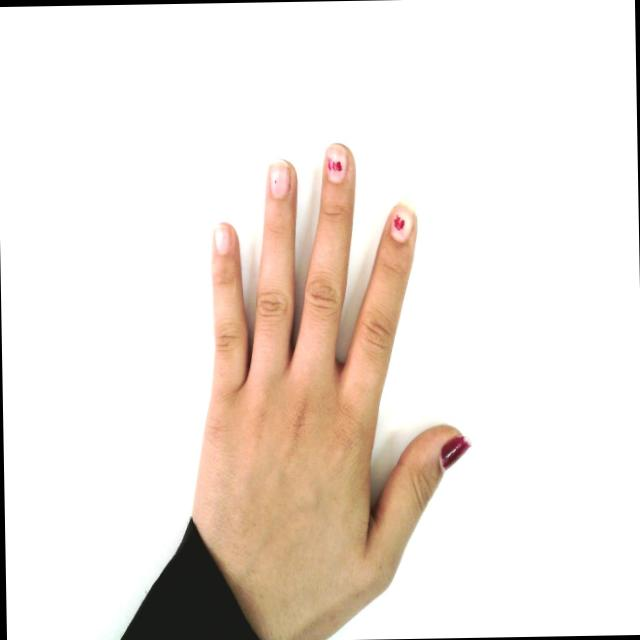Nail: (440, 436, 470, 469), (389, 204, 413, 241), (325, 142, 346, 182), (268, 159, 288, 197), (213, 221, 230, 253)
